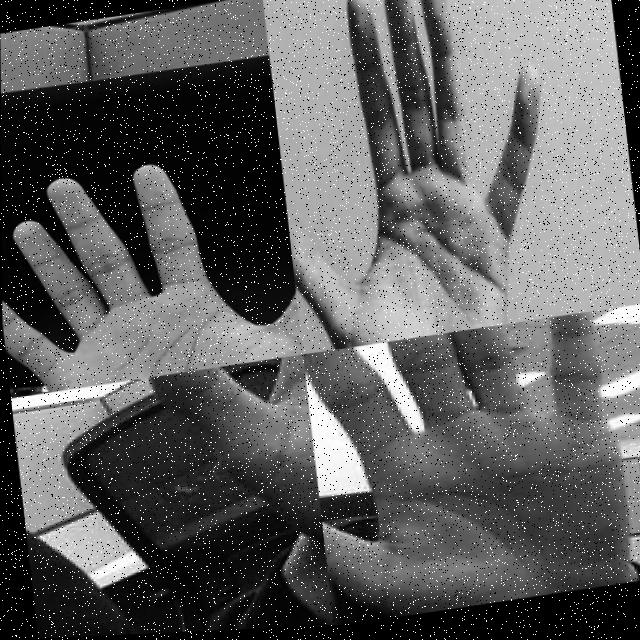hand: (260, 0, 563, 357), (301, 312, 636, 630), (1, 136, 300, 397), (96, 355, 328, 625)
